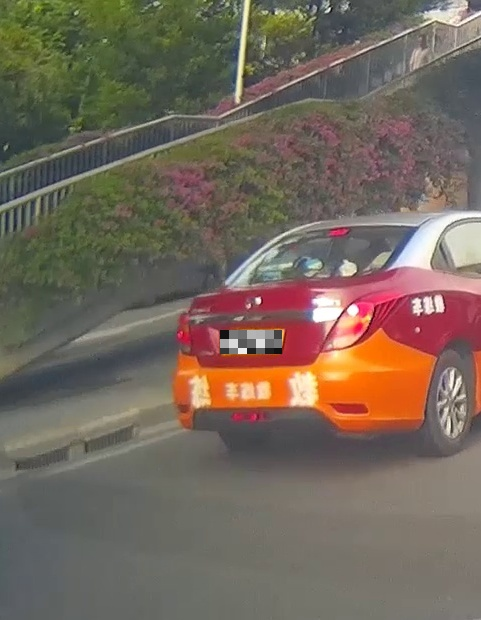L_light: (174, 311, 192, 354)
R_light: (320, 299, 374, 354)
T_light: (323, 228, 351, 236)
day-right: (170, 214, 425, 454)
plate_1: (220, 330, 282, 354)
